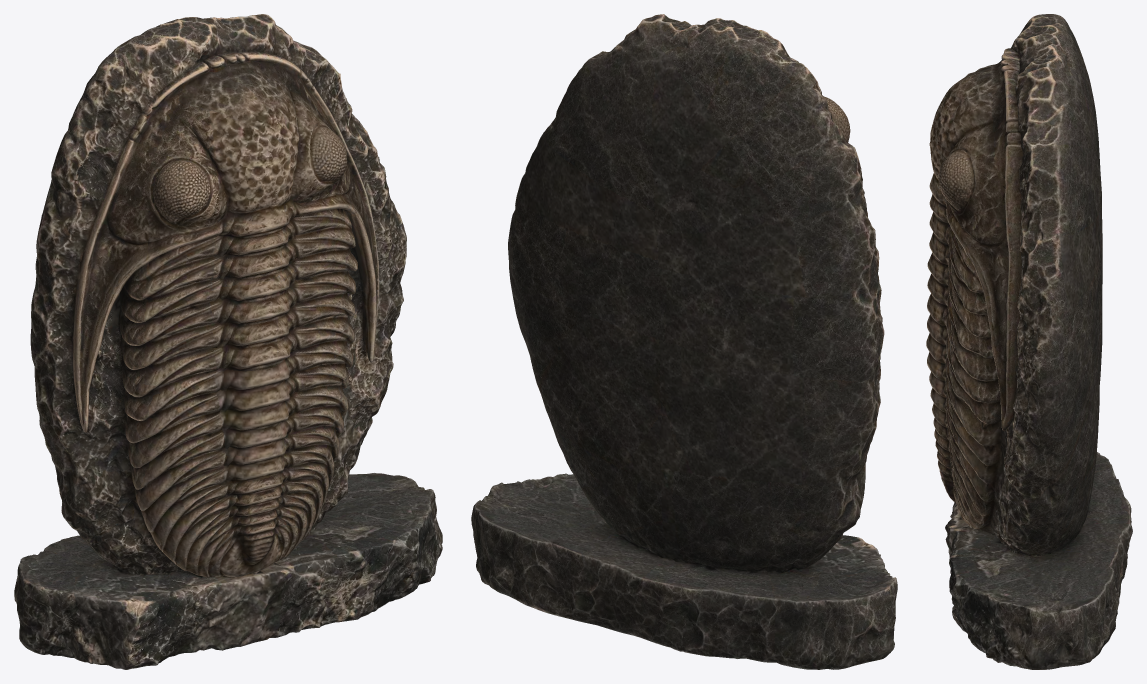
3 renders of one model, left to right at view 1: azimuth 30°, elevation 25°; view 2: azimuth 150°, elevation 25°; view 3: azimuth 270°, elevation 25°, orthographic. The views are drawn at different scales.
Visible parts, largest first — view 1: Mesh_0; view 2: Mesh_0; view 3: Mesh_0.
Boxes of the visible parts, <box> form: Mesh_0: <box>14,14,442,669</box>; Mesh_0: <box>471,14,897,669</box>; Mesh_0: <box>926,14,1132,669</box>.
Size of the model in its own units: 1.39 by 1.9 by 0.6605.
1 material, 1 textured.
